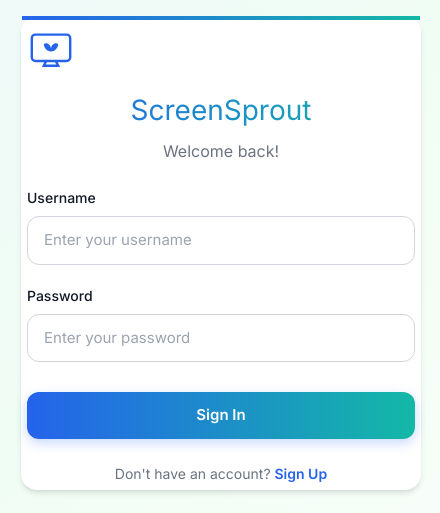
it: Login Component › Rendering › renders registration form when toggled
Check: the button "Sign In" is enabled, box [27,392,415,439]
# Click register toggle
Click the button "Sign Up".
click(301, 473)  # box [274,463,327,484]
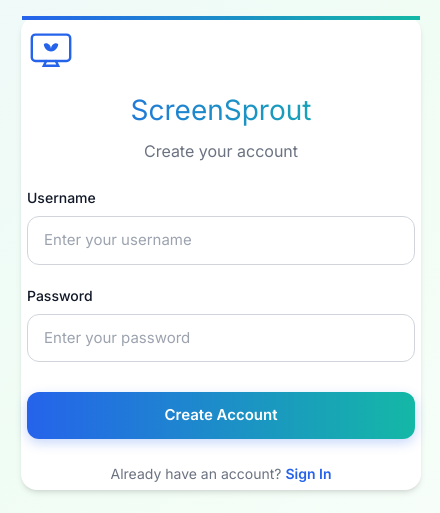
Check: the button "Create Account" is shown, box [27,392,415,439]
